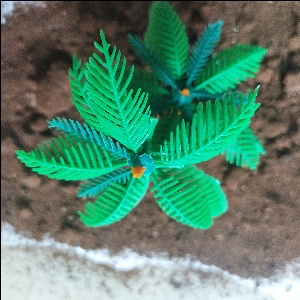plant: (13, 50, 247, 233), (109, 7, 264, 129)
